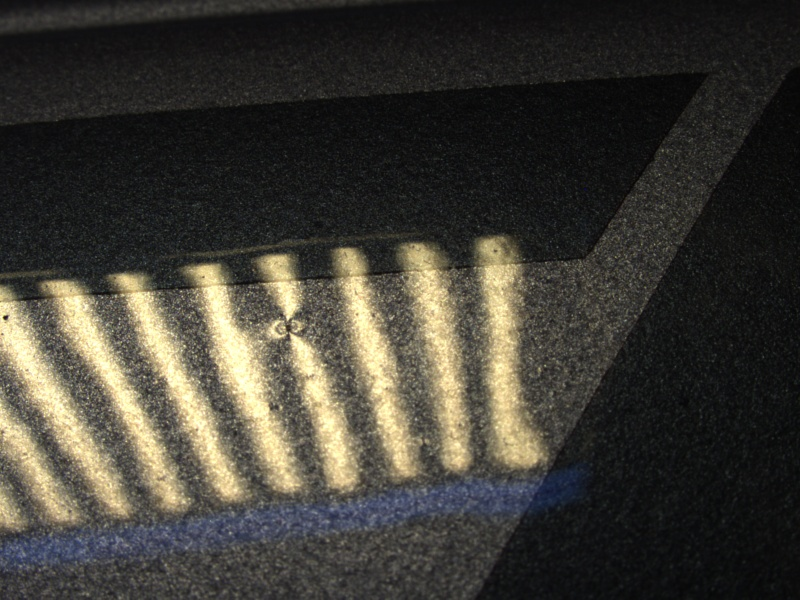bad: (266, 302, 319, 348)
